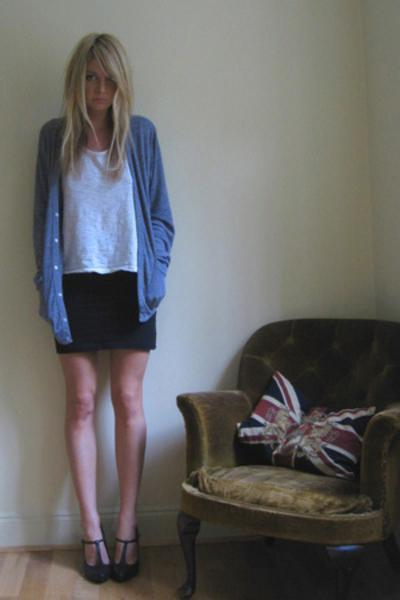jacket: (24, 116, 174, 342)
shirt: (46, 149, 141, 281)
shoe: (84, 529, 147, 584)
skirt: (54, 270, 155, 354)
